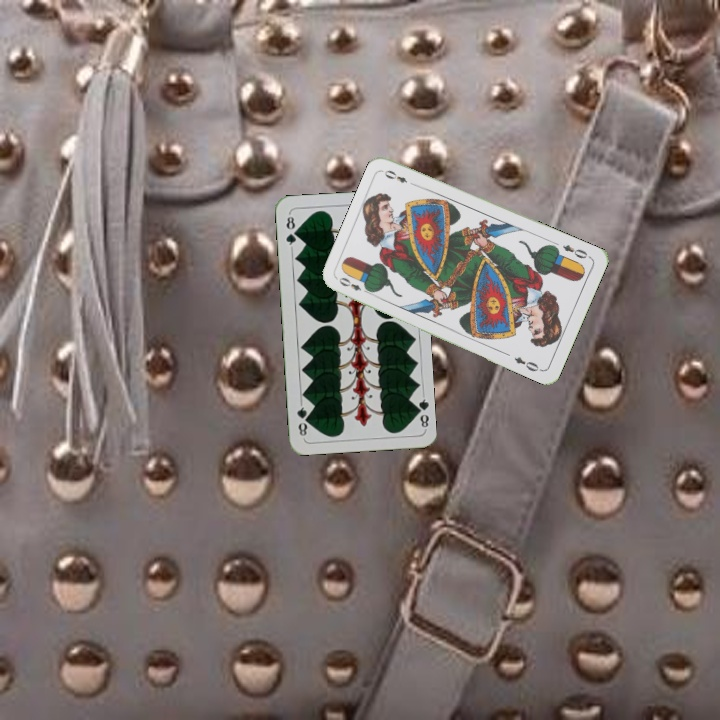EO: (335, 273, 373, 297), (558, 241, 593, 261)
G8: (411, 391, 431, 432), (282, 210, 299, 251)
